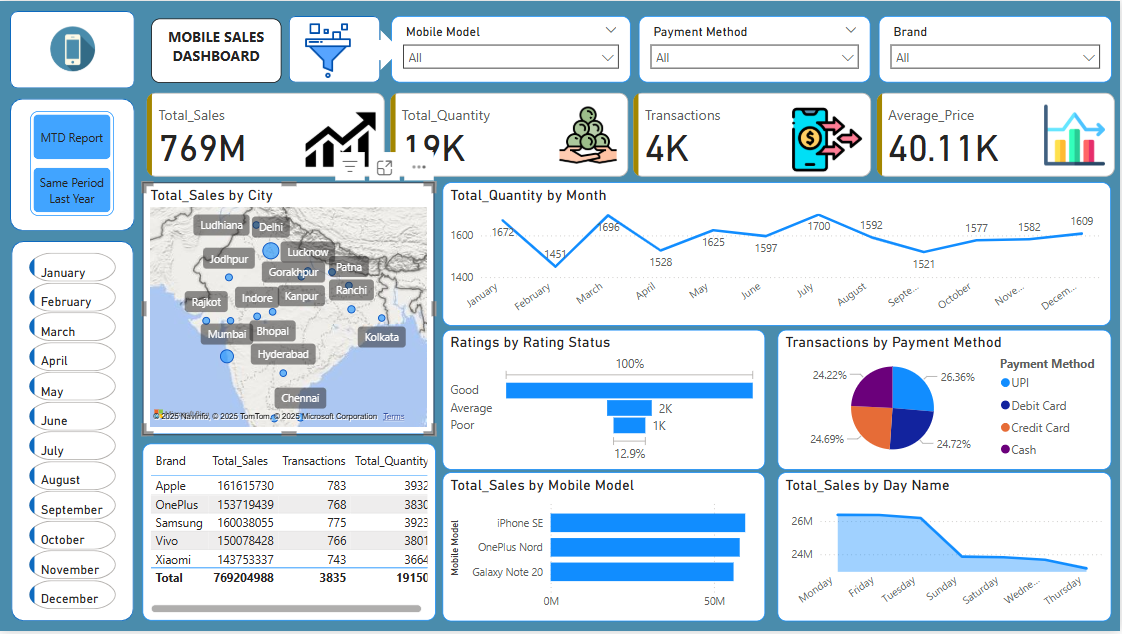

What the dashboard file says about the page in this screenshot:
{"tool":"powerbi","page":{"name":"Dashboard","canvas":[1280,720],"ordinal":0},"visuals":[{"type":"shape","box":[11,11,142.3,88.3],"z":0},{"type":"image","box":[20.9,24.5,122.7,61.4],"z":1000},{"type":"shape","box":[11.2,111.2,142.5,151.2],"z":2000},{"type":"shape","box":[13.5,273.6,139.9,434.4],"z":3000},{"type":"advancedSlicerVisual","fields":{"Values":["Custom_Calendar.Date.Variation.Date Hierarchy.Month"]},"box":[28.2,283.4,109.2,424.5],"z":4000},{"type":"cardVisual","fields":{"Data":["Sales_Data.Total_Sales","Sales_Data.Total_Quantity","Sales_Data.Transactions","Sales_Data.Average_Price"]},"box":[163.2,99.4,1116.6,106.7],"z":5000},{"type":"slicer","fields":{"Values":["Sales_Data.Mobile Model"]},"box":[447.9,17.2,273.6,76.1],"z":6000},{"type":"slicer","fields":{"Values":["Sales_Data.Payment Method"]},"box":[730.1,17.2,265,76.1],"z":7000},{"type":"slicer","fields":{"Values":["Sales_Data.Brand"]},"box":[1003.7,17.2,266.3,76.1],"z":8000},{"type":"shape","box":[330.1,17.2,104.3,76.1],"z":9000},{"type":"image","box":[330.1,19.6,89.6,73.6],"z":10000},{"type":"shape","box":[411,33.1,46.6,46.6],"z":11000},{"type":"textbox","box":[173,19.6,148.5,73.6],"z":12000},{"type":"map","fields":{"Category":["Sales_Data.City"],"Size":["Sales_Data.Total_Sales"]},"box":[163.2,207.4,333.7,288.3],"z":13000},{"type":"lineChart","fields":{"Category":["Custom_Calendar.Date.Variation.Date Hierarchy.Month"],"Y":["Sales_Data.Total_Quantity"]},"box":[506.2,207.5,763.8,163.8],"z":14000},{"type":"funnel","title":"Ratings by Rating Status","fields":{"Y":["Sum(Sales_Data.Customer Ratings)"],"Category":["Sales_Data.Rating Status"]},"box":[506.2,375,368.8,160],"z":15000},{"type":"pieChart","fields":{"Category":["Sales_Data.Payment Method"],"Y":["Sales_Data.Transactions"]},"box":[888.8,375,381.2,160],"z":16000},{"type":"clusteredBarChart","fields":{"Y":["Sales_Data.Total_Sales"],"Category":["Sales_Data.Mobile Model"]},"box":[506.2,538.8,368.8,170],"z":17000},{"type":"areaChart","fields":{"Category":["Custom_Calendar.Day Name"],"Y":["Sales_Data.Total_Sales"]},"box":[888.8,538.8,381.2,170],"z":18000},{"type":"tableEx","fields":{"Values":["Sales_Data.Brand","Sales_Data.Total_Sales","Sales_Data.Transactions","Sales_Data.Total_Quantity"]},"box":[162.5,506.2,335,202.5],"z":19000},{"type":"pageNavigator","box":[33.8,126.2,96.2,120],"z":19001}]}

Visuals, with their boxes in screenshot pixels (x1, y1, x2, y2), scaled from the page's 1280x720 canvas onto the 1122x634 screenshot:
shape: select_region(10, 10, 134, 87)
image: select_region(18, 22, 126, 76)
shape: select_region(10, 98, 135, 231)
shape: select_region(12, 241, 134, 623)
advancedSlicerVisual - Custom_Calendar.Date.Variation.Date Hierarchy.Month: select_region(25, 250, 120, 623)
cardVisual - Sales_Data.Total_Sales x Sales_Data.Total_Quantity: select_region(143, 88, 1121, 181)
slicer - Sales_Data.Mobile Model: select_region(393, 15, 632, 82)
slicer - Sales_Data.Payment Method: select_region(640, 15, 872, 82)
slicer - Sales_Data.Brand: select_region(880, 15, 1113, 82)
shape: select_region(289, 15, 381, 82)
image: select_region(289, 17, 368, 82)
shape: select_region(360, 29, 401, 70)
textbox: select_region(152, 17, 282, 82)
map - Sales_Data.City x Sales_Data.Total_Sales: select_region(143, 183, 436, 436)
lineChart - Custom_Calendar.Date.Variation.Date Hierarchy.Month x Sales_Data.Total_Quantity: select_region(444, 183, 1113, 327)
"Ratings by Rating Status" funnel: select_region(444, 330, 767, 471)
pieChart - Sales_Data.Payment Method x Sales_Data.Transactions: select_region(779, 330, 1113, 471)
clusteredBarChart - Sales_Data.Total_Sales x Sales_Data.Mobile Model: select_region(444, 474, 767, 624)
areaChart - Custom_Calendar.Day Name x Sales_Data.Total_Sales: select_region(779, 474, 1113, 624)
tableEx - Sales_Data.Brand x Sales_Data.Total_Sales: select_region(142, 446, 436, 624)
pageNavigator: select_region(30, 111, 114, 217)
